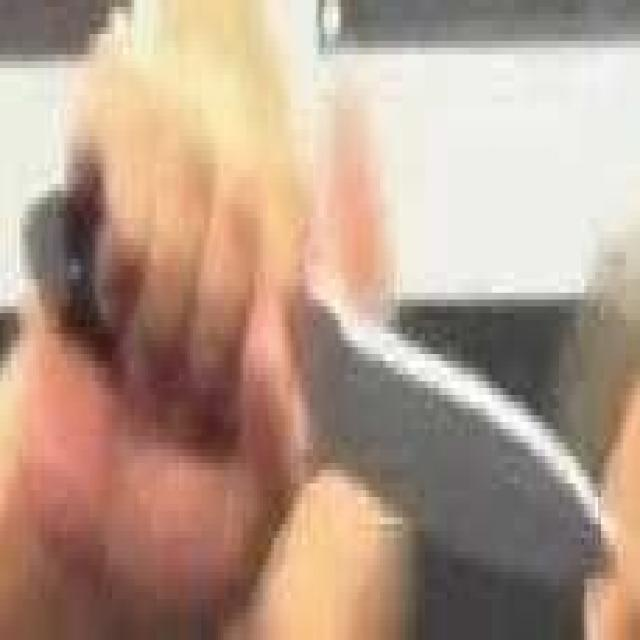Knife: (14, 164, 640, 600)
